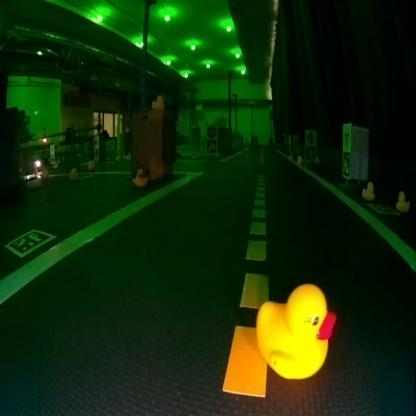Duckie: (257, 287, 335, 376), (132, 169, 148, 184), (396, 190, 408, 210), (361, 181, 373, 199), (151, 94, 161, 106), (68, 166, 76, 177), (86, 160, 94, 168), (296, 156, 300, 164)
Intersection sign: (342, 125, 350, 149), (305, 130, 316, 144)
QR code: (5, 228, 57, 258), (342, 152, 350, 178), (304, 146, 316, 160)
